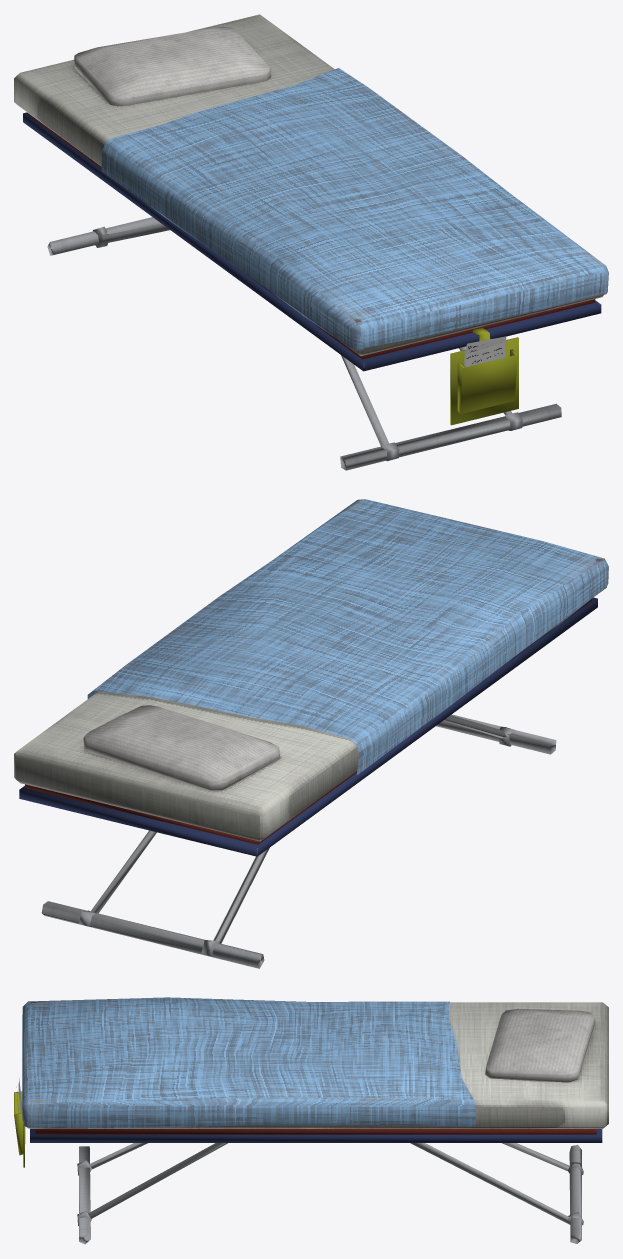
Rendered from hospital_bed.glb.
3 renders of one model, top to bottom at view 1: azimuth 30°, elevation 25°; view 2: azimuth 150°, elevation 25°; view 3: azimuth 270°, elevation 25°, orthographic. The views are drawn at different scales.
Visible parts, largest first — view 1: Bed; view 2: Bed; view 3: Bed.
Part boxes in pixels (x1,y1,x2,y2): Bed: (14,14,608,470); Bed: (14,499,608,968); Bed: (14,997,608,1244).
Size of what is drawn, in the model's own units: 1.04 by 0.7642 by 2.48.
1 material, 1 textured.
